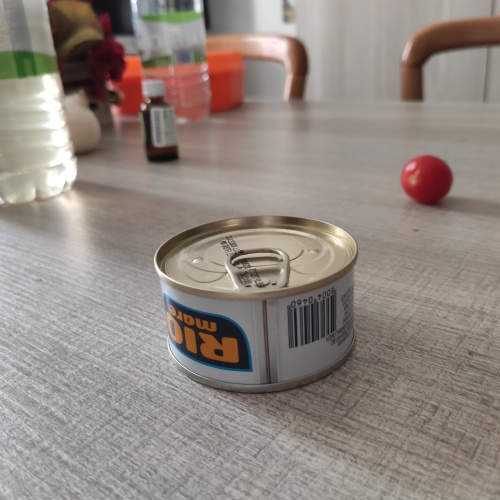pomodoro: (393, 149, 462, 215)
tonno: (144, 209, 366, 404)
